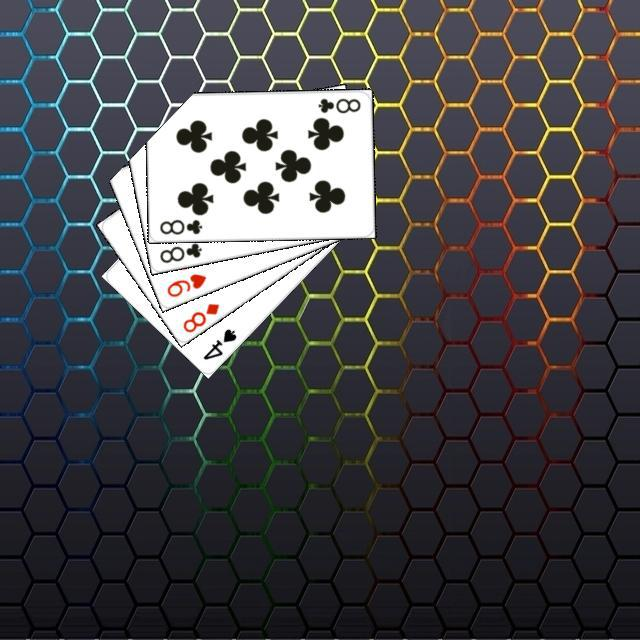4s: (198, 323, 238, 362)
8c: (155, 238, 204, 265), (155, 214, 204, 236), (313, 93, 362, 115)
8d: (178, 298, 221, 334)
9h: (162, 269, 208, 299)
